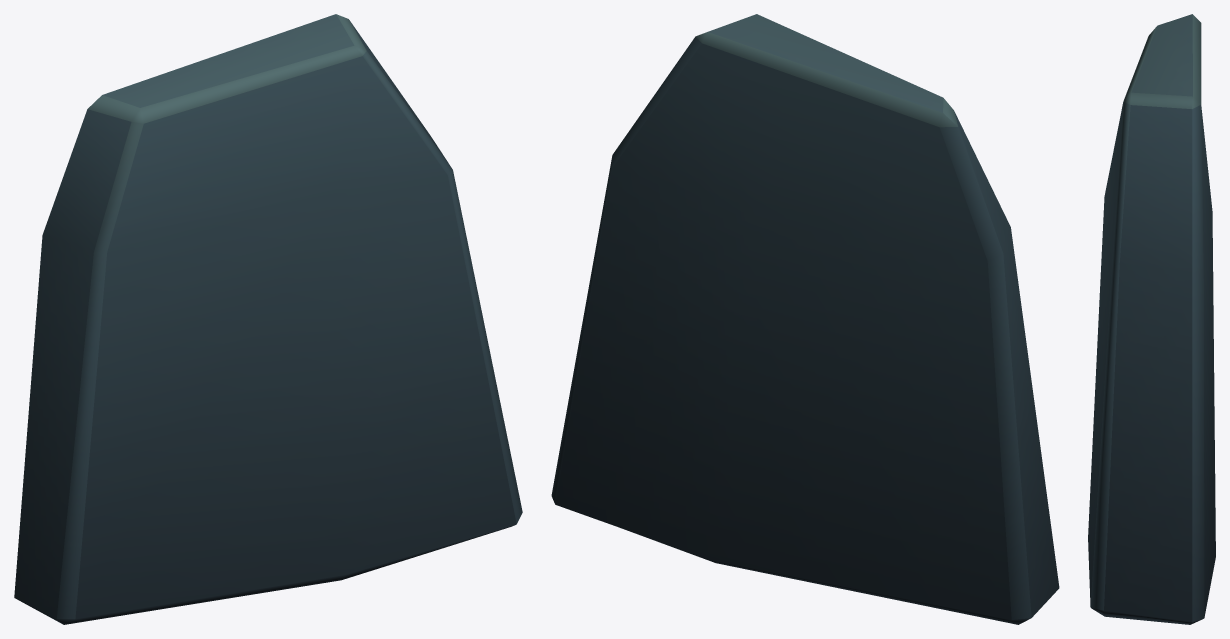
File: rock_large_03.fbx
The picture shows the model from 3 angles, left to right: view 1: azimuth 30°, elevation 25°; view 2: azimuth 150°, elevation 25°; view 3: azimuth 270°, elevation 25°; orthographic projection. The views are drawn at different scales.
Parts seen in each view (by area): view 1: rock_large_03; view 2: rock_large_03; view 3: rock_large_03.
Boxes of the visible parts, <box> form: rock_large_03: <box>14,14,522,624</box>; rock_large_03: <box>551,14,1059,624</box>; rock_large_03: <box>1088,14,1215,624</box>.
Size of the model in its own units: 1224 by 1275 by 311.
